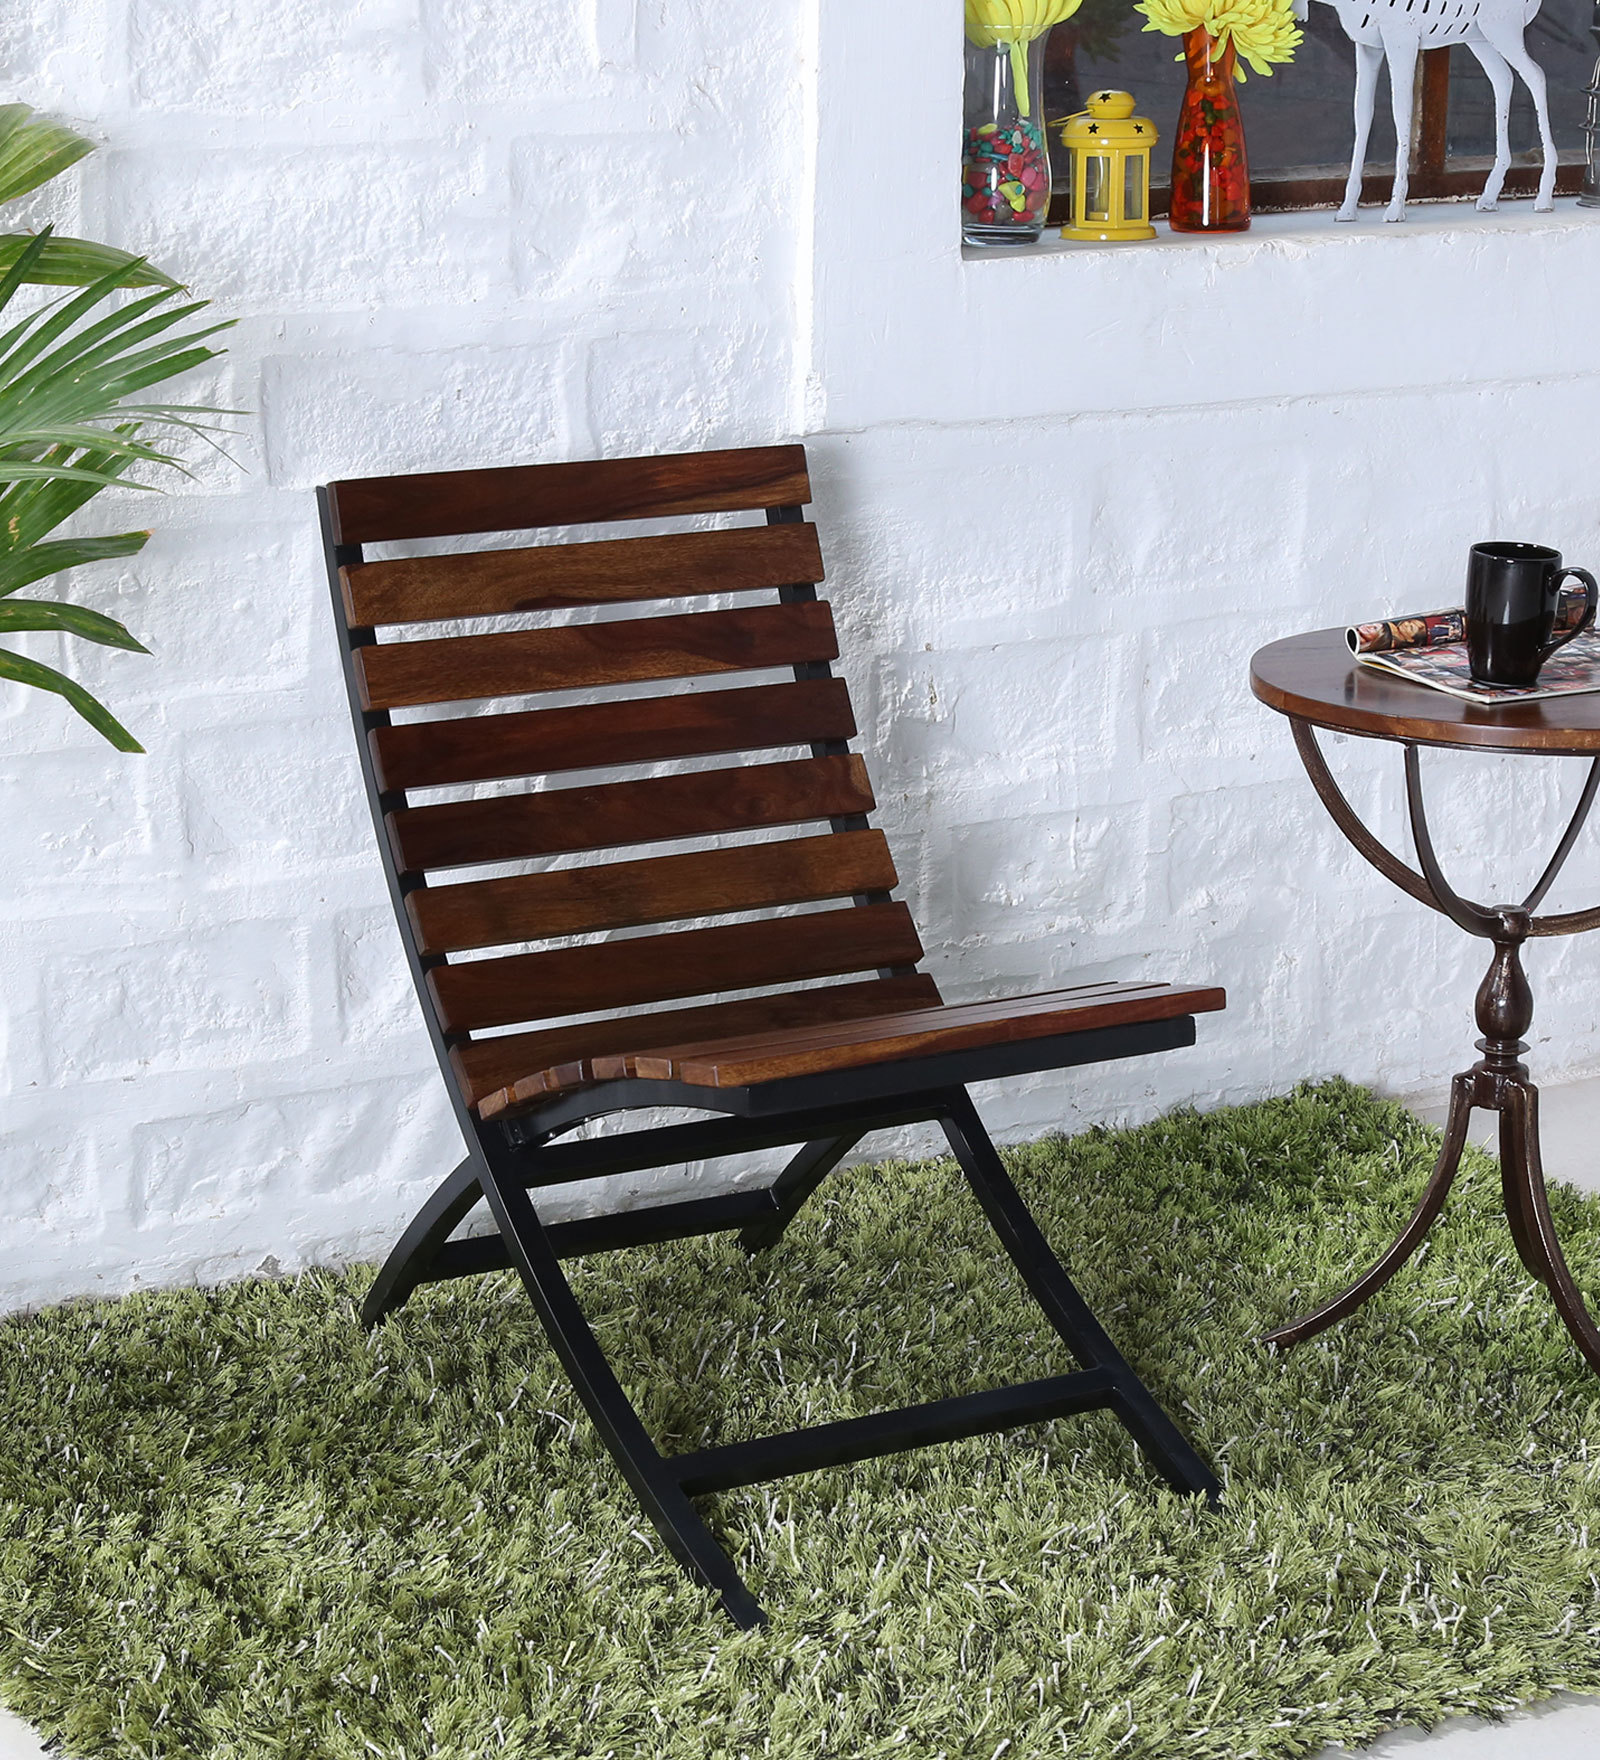Mexico Folding Chair by Bohemiana: (311, 451, 1244, 1630)
